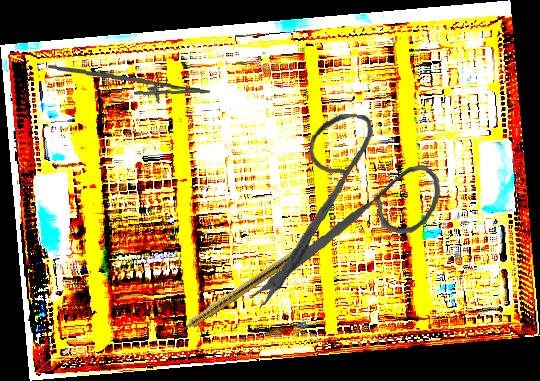Handpiece: (172, 249, 296, 339)
Iris Scissors: (247, 107, 445, 323)
Needle Holder: (46, 64, 211, 106)
